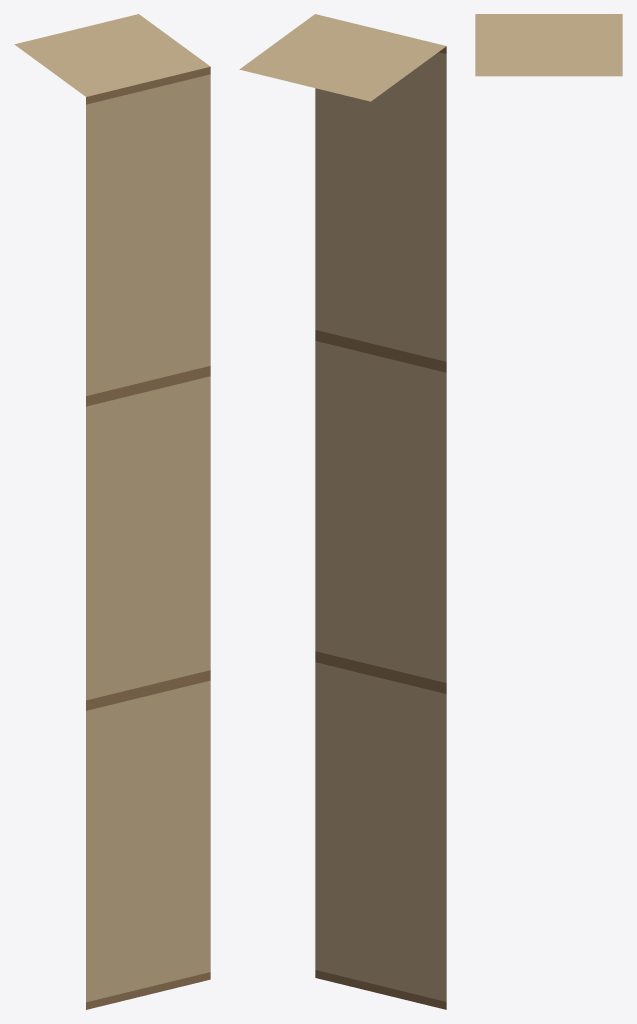
Rendered from M_WallTile50-1Biege80.FBX.
3 renders of one model, left to right at view 1: azimuth 30°, elevation 25°; view 2: azimuth 150°, elevation 25°; view 3: azimuth 270°, elevation 25°, orthographic. The views are drawn at different scales.
Parts seen in each view (by area): view 1: M_WallTile50-1Biege80; view 2: M_WallTile50-1Biege80; view 3: M_WallTile50-1Biege80.
Part boxes in pixels (box(x1,y1,x2,y2)): M_WallTile50-1Biege80: box(14, 14, 210, 1009); M_WallTile50-1Biege80: box(239, 14, 446, 1009); M_WallTile50-1Biege80: box(475, 14, 622, 76).
Bounding box in the file's own units: 0.5 × 3.5 × 0.5.
